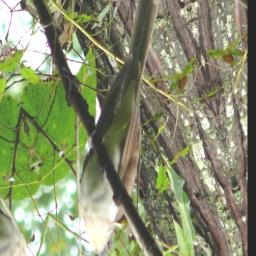Cuckoo: (31, 0, 219, 256)
